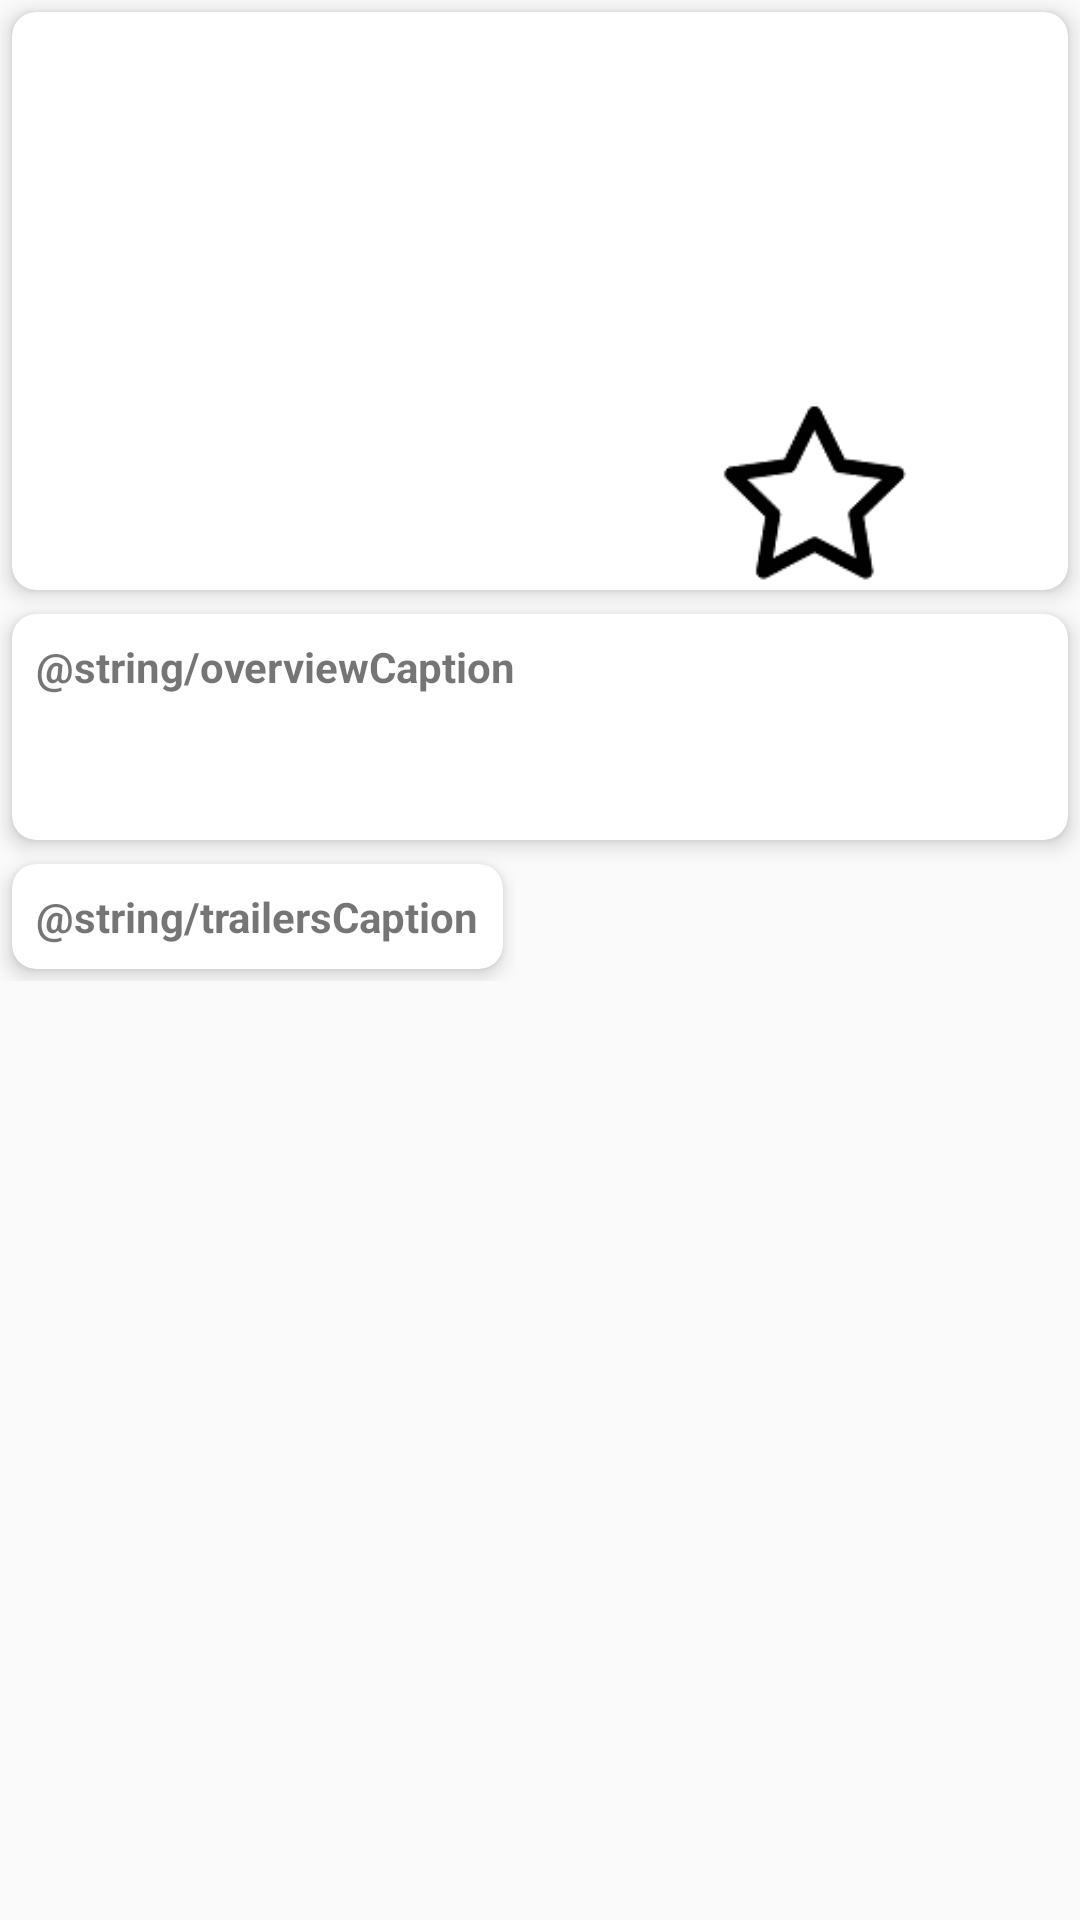

Named icons in this screenshot (1080x1920) and their centers, point (x, y):
star empty: point (814, 493)
